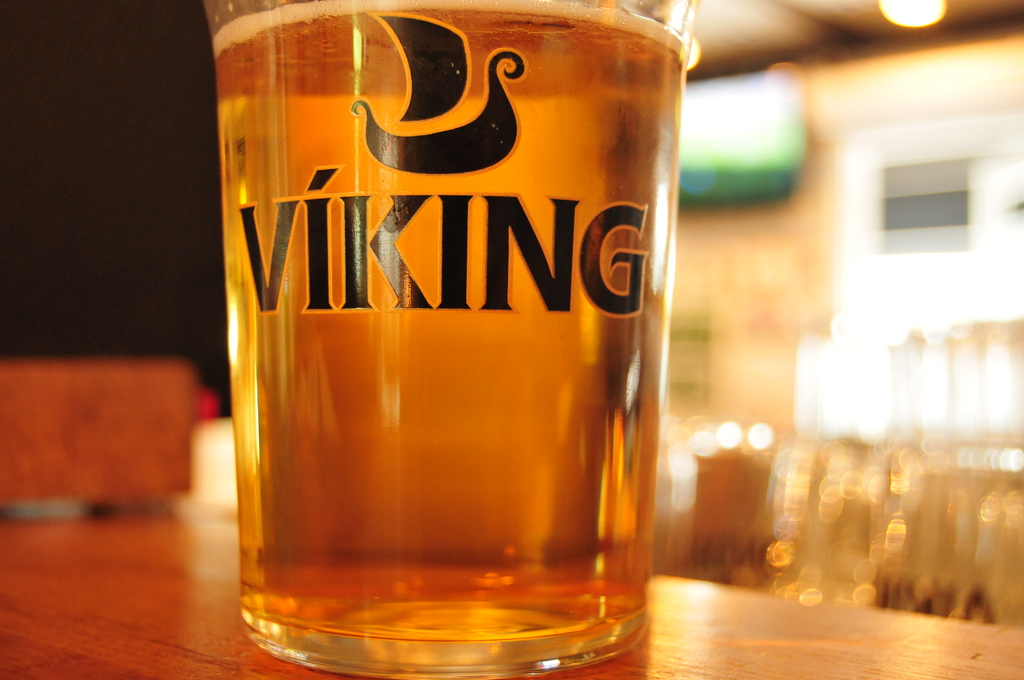Beer: (213, 15, 695, 658)
